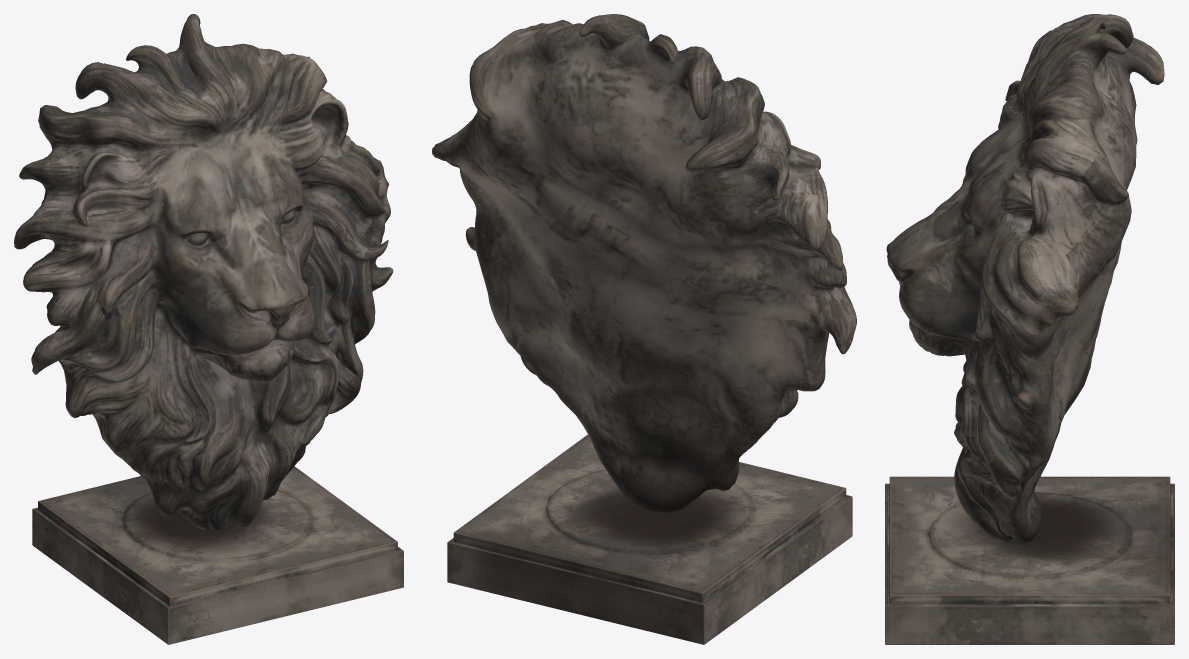
The model's file is lion_head.glb.
3 views of the same model, side by side, from view 1: azimuth 30°, elevation 25°; view 2: azimuth 150°, elevation 25°; view 3: azimuth 270°, elevation 25° (orthographic). The views are drawn at different scales.
Visible parts, largest first — view 1: lion_head; view 2: lion_head; view 3: lion_head.
Part boxes in pixels (bbox=[...]): lion_head: bbox=[14, 14, 403, 644]; lion_head: bbox=[432, 14, 856, 644]; lion_head: bbox=[885, 14, 1174, 644].
Size of the model in its own units: 0.3208 by 0.4364 by 0.2066.
Materials: 1 (1 with a texture image).
